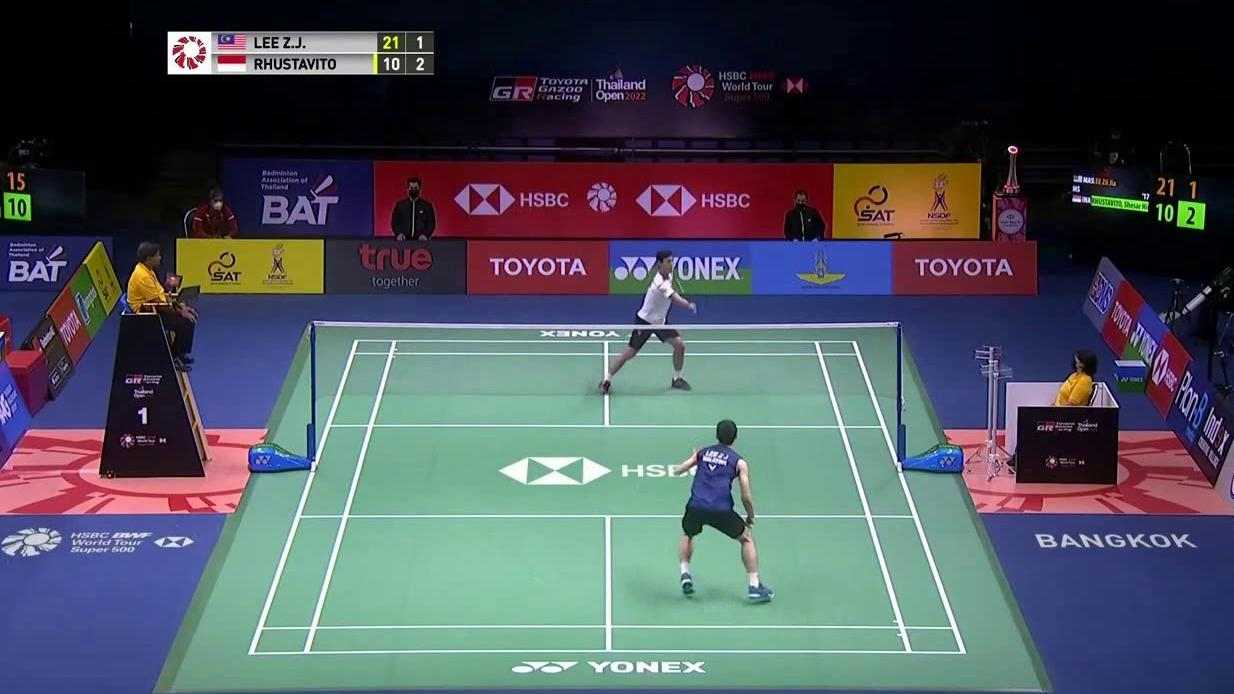racket: (671, 267, 697, 313)
